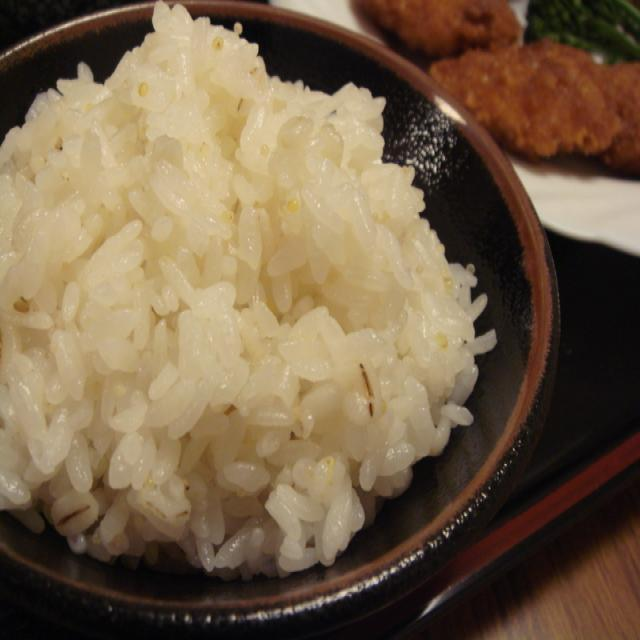Rice: (1, 1, 451, 512)
